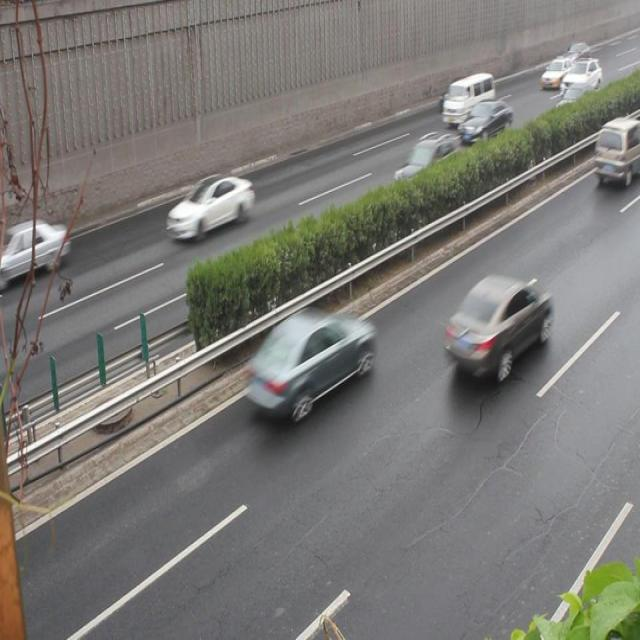car: (243, 307, 373, 415), (442, 269, 548, 376), (165, 172, 252, 238), (0, 217, 69, 284), (392, 129, 456, 199), (455, 99, 511, 142), (547, 83, 596, 129), (557, 56, 600, 96), (539, 54, 572, 86)
